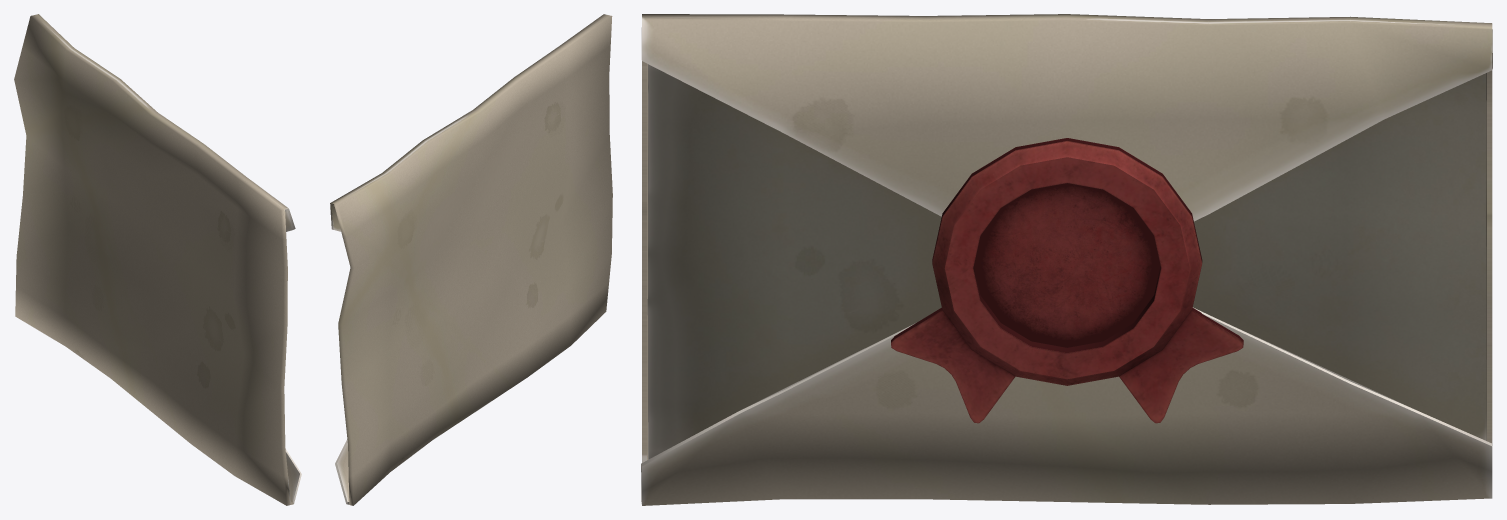
The model's file is Carta.obj.
The picture shows the model from 3 angles, left to right: view 1: azimuth 30°, elevation 25°; view 2: azimuth 150°, elevation 25°; view 3: azimuth 270°, elevation 25°; orthographic projection. The views are drawn at different scales.
Parts seen in each view (by area): view 1: Object_4; view 2: Object_4; view 3: Object_4, Object_6.
Part boxes in pixels (x1,y1,x2,y2): Object_4: (14,14,301,505); Object_4: (330,14,612,505); Object_4: (641,14,1492,505); Object_6: (891,138,1243,423).
Bounding box in the file's own units: 0.2476 × 2 × 3.21.
Materials: 1 (1 with a texture image).
